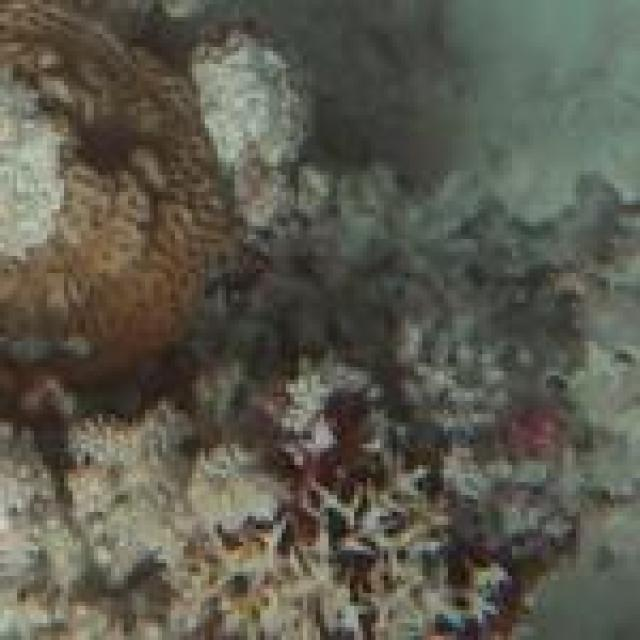Bleached Coral: (18, 388, 276, 590), (188, 11, 326, 170), (334, 483, 459, 640), (0, 65, 72, 257)
Dead Coral: (286, 160, 640, 444)
